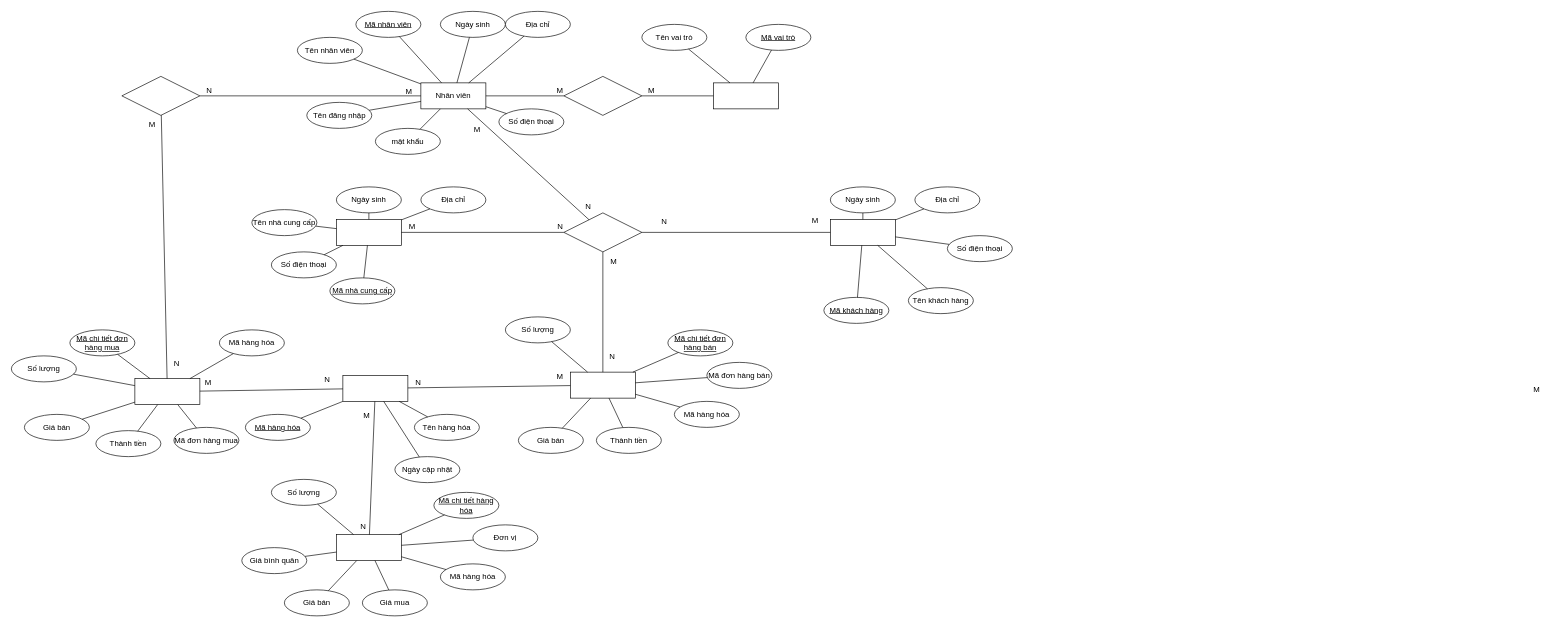
The diagram is 1552 pixels wide and 627 high, and some of its shapes have lost their labels. Each missing label, with the centre of its shape:
"Chi tiết hàng hóa" belongs at (368,547).
"Chi tiết đơn hàng bán" belongs at (602,384).
"Chi tiết đơn hàng mua" belongs at (167,391).
"Hàng hóa" belongs at (375,388).
"Khách hàng" belongs at (862,232).
"Nhà cung cấp" belongs at (368,232).
"Vai trò" belongs at (745,95).
"Vai trò nhân viên" belongs at (602,95).
"Đơn hàng bán" belongs at (602,232).
"Đơn hàng mua" belongs at (160,95).
